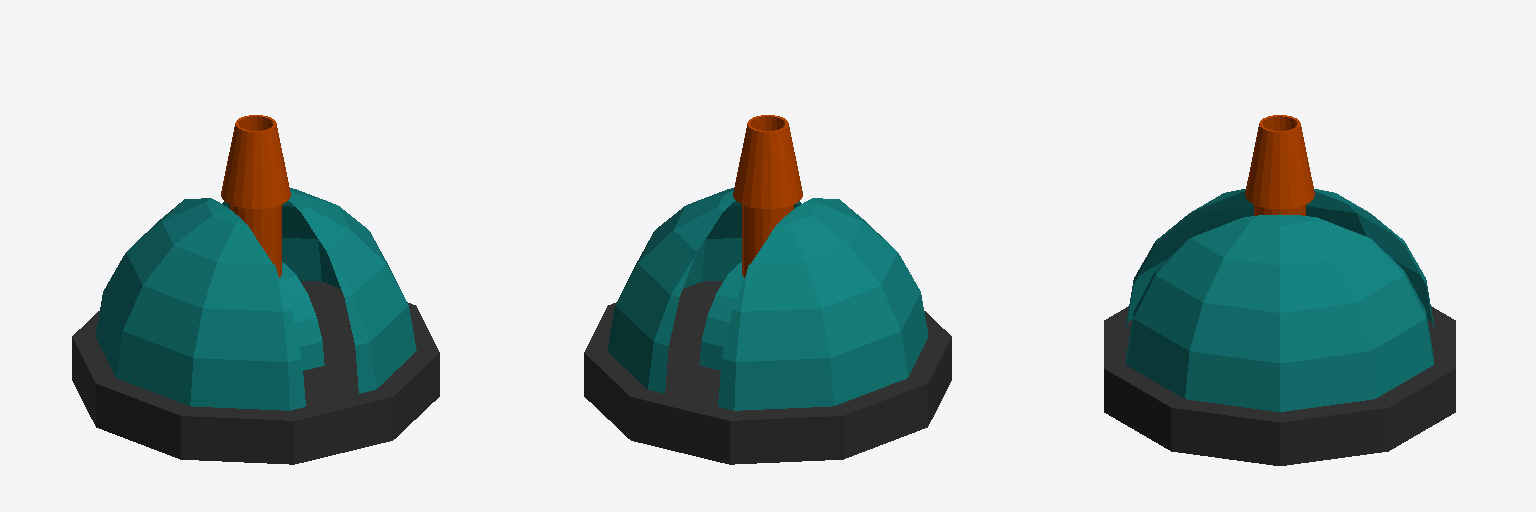
File: Turret.obj
3 views of the same model, side by side, from view 1: azimuth 30°, elevation 25°; view 2: azimuth 150°, elevation 25°; view 3: azimuth 270°, elevation 25° (orthographic).
Parts seen in each view (by area): view 1: pSphere1, pCylinder1, pCylinder2, pCylinder3; view 2: pSphere1, pCylinder1, pCylinder2, pCylinder3; view 3: pSphere1, pCylinder1, pCylinder2.
Part boxes in pixels (left/top/right/bottom): pSphere1: left=95, top=188, right=416, bottom=410; pCylinder1: left=72, top=281, right=439, bottom=464; pCylinder2: left=221, top=115, right=290, bottom=277; pCylinder3: left=279, top=262, right=324, bottom=370; pSphere1: left=607, top=188, right=928, bottom=410; pCylinder1: left=584, top=281, right=951, bottom=464; pCylinder2: left=733, top=115, right=802, bottom=277; pCylinder3: left=699, top=262, right=744, bottom=370; pSphere1: left=1126, top=189, right=1433, bottom=411; pCylinder1: left=1104, top=306, right=1455, bottom=465; pCylinder2: left=1245, top=115, right=1314, bottom=215.
Bounding box in the file's own units: 5.45 × 4.3 × 5.18.